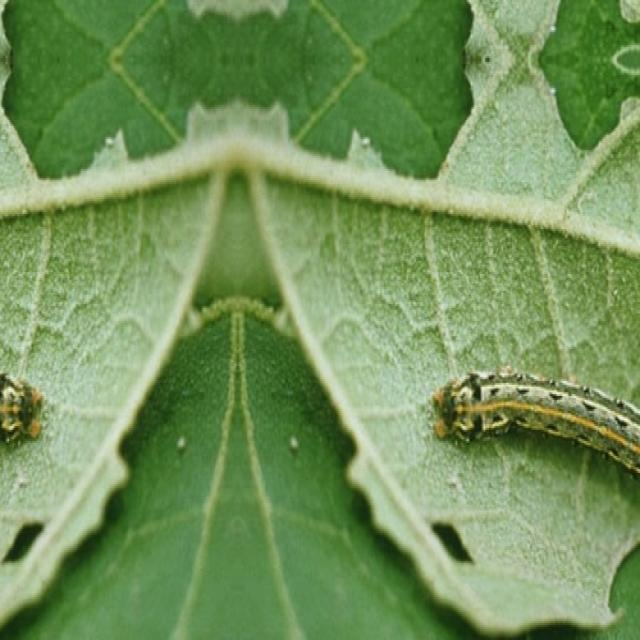armyworm: (430, 364, 639, 499), (0, 368, 44, 445)
